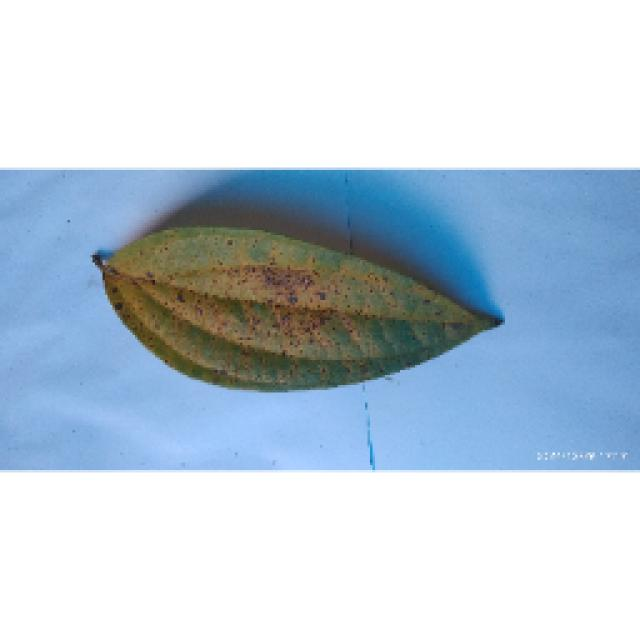slow-decline: (82, 175, 508, 450)
